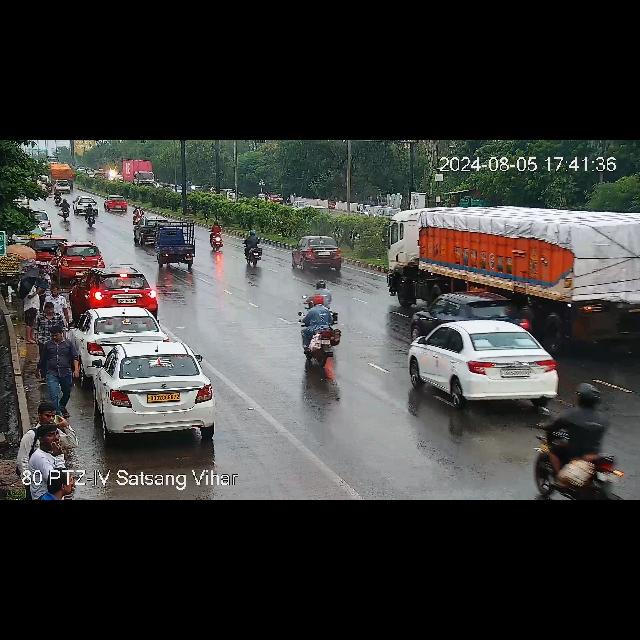bus: (392, 200, 640, 320)
car: (402, 318, 558, 409), (90, 344, 214, 440), (75, 306, 161, 358), (82, 268, 156, 312), (296, 236, 348, 272), (54, 242, 106, 276), (152, 228, 196, 268), (132, 216, 170, 244), (31, 237, 67, 259), (28, 210, 56, 233), (74, 196, 96, 214), (105, 195, 129, 211), (270, 192, 282, 204), (329, 200, 335, 208)
motorcycle: (536, 390, 626, 500), (298, 296, 344, 364), (240, 230, 270, 266), (208, 222, 226, 252), (84, 206, 102, 227), (132, 206, 144, 224)
person: (37, 332, 79, 402), (30, 306, 66, 380), (31, 424, 68, 461), (25, 282, 39, 336), (44, 285, 70, 311), (35, 402, 67, 423), (38, 266, 50, 280)
truck: (122, 159, 154, 187), (50, 166, 74, 188)
